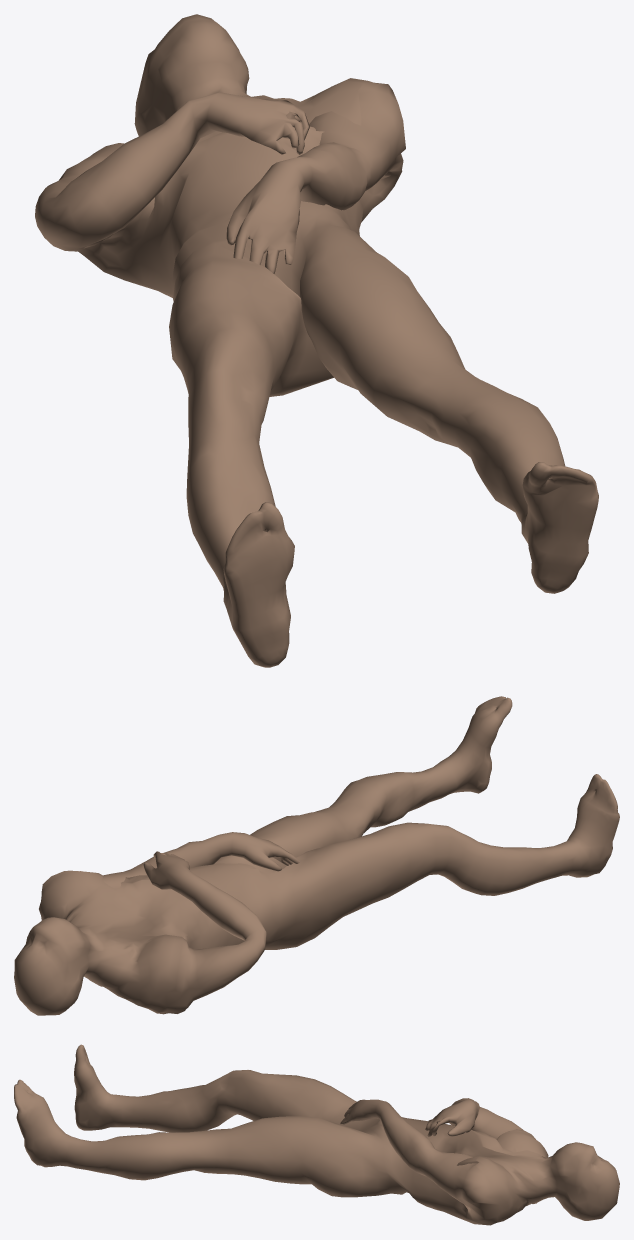
Rendered from ZombieDeadPoseII.fbx.
The picture shows the model from 3 angles, top to bottom: view 1: azimuth 30°, elevation 25°; view 2: azimuth 150°, elevation 25°; view 3: azimuth 270°, elevation 25°; orthographic projection. The views are drawn at different scales.
Visible parts, largest first — view 1: Zombie002; view 2: Zombie002; view 3: Zombie002.
Boxes of the visible parts, box(x1,y1,x2,y2) form: Zombie002: box(35, 14, 598, 667); Zombie002: box(14, 696, 619, 1015); Zombie002: box(14, 1044, 619, 1225).
Size of the model in its own units: 95.3 by 34.02 by 172.
